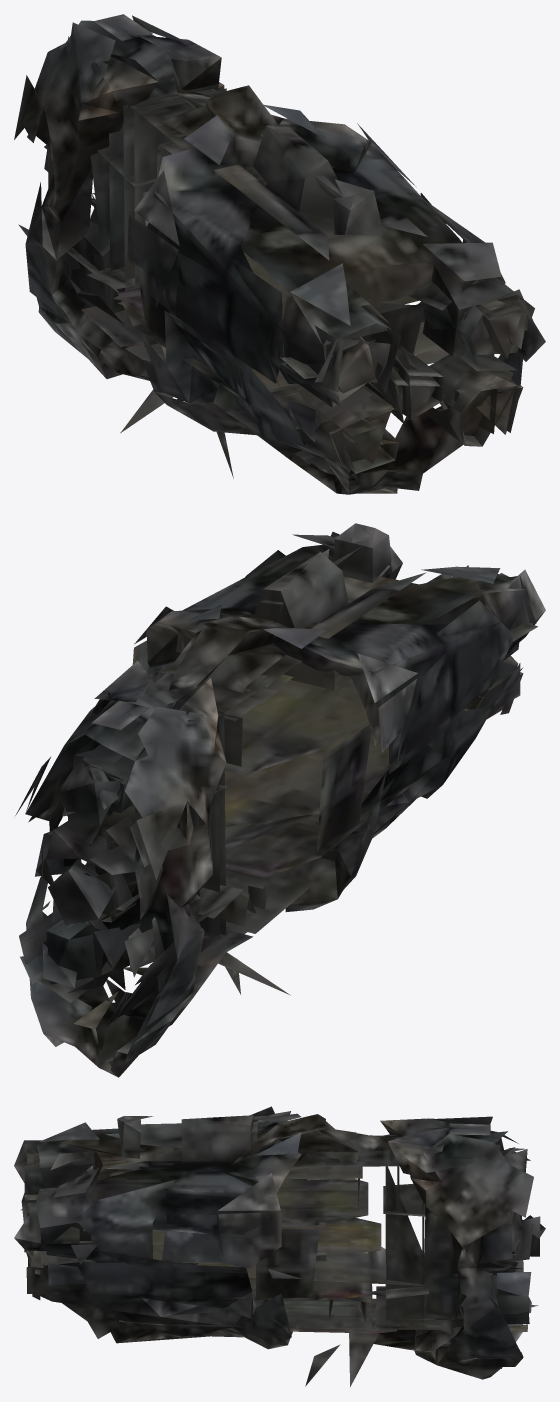
File: wreck.glb
The picture shows the model from 3 angles, top to bottom: view 1: azimuth 30°, elevation 25°; view 2: azimuth 150°, elevation 25°; view 3: azimuth 270°, elevation 25°; orthographic projection. The views are drawn at different scales.
Visible parts, largest first — view 1: wreck; view 2: wreck; view 3: wreck.
Part boxes in pixels (x1,y1,x2,y2): wreck: (14,14,545,494); wreck: (15,523,545,1077); wreck: (14,1106,545,1386).
Bounding box in the file's own units: 18.62 × 26.93 × 48.
1 material, 1 textured.
